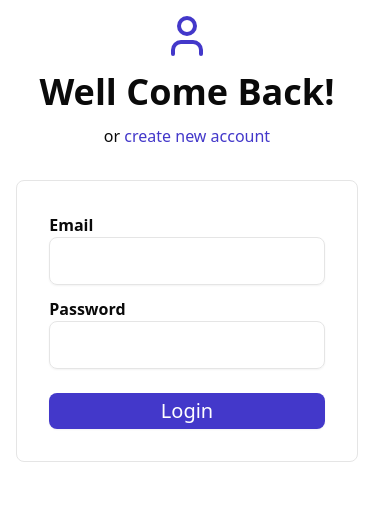
Test: LoginForm › submits the form and handles successful login
This screenshot has width=375, height=515.
Type "test@example.com" into the field labelled "Email" at (187, 261), box [49,237,325,285]
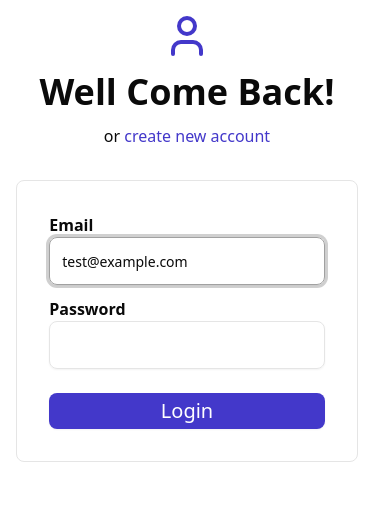
Type "password123" into the password field labelled "Password" at (187, 345), box [49,321,325,369]
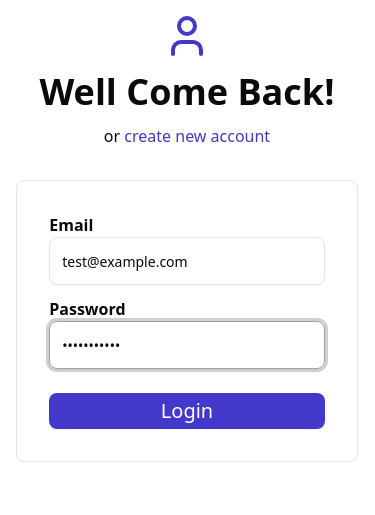
Click the button "Login" at (187, 411), box [49,393,325,429]
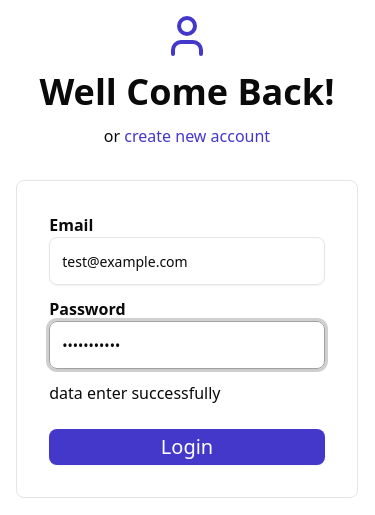
Now the text "data enter successfully" is shown, box [49,382,221,404]
